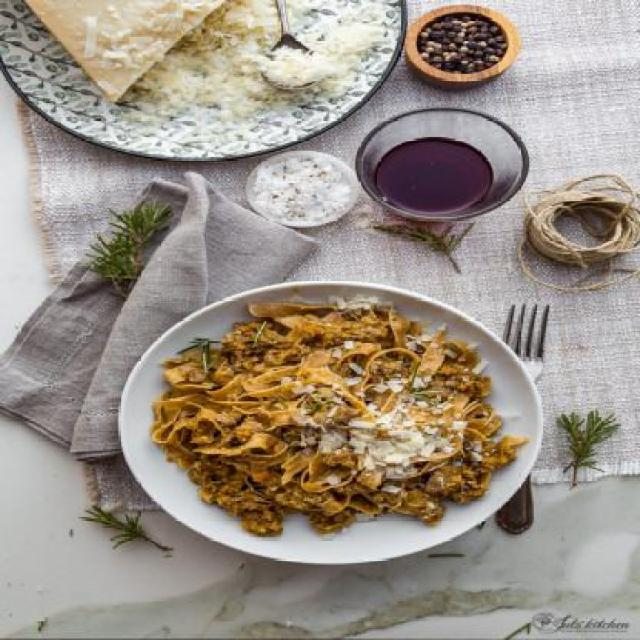Pasta al ragu: (122, 290, 547, 550)
